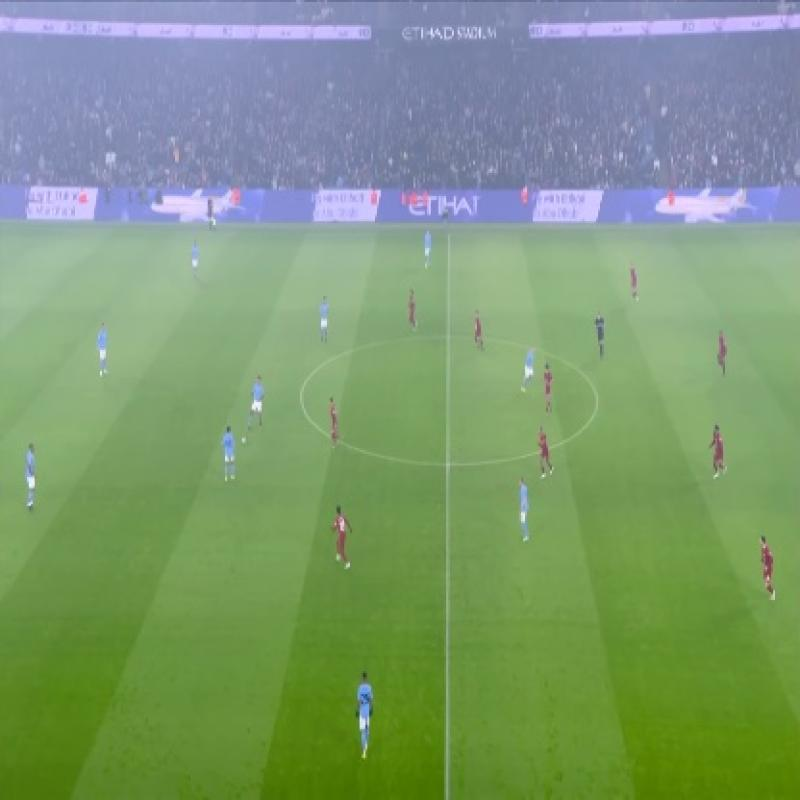13: (439, 219, 458, 246)
14: (436, 321, 458, 348)
15: (432, 446, 460, 478)
c: (290, 378, 314, 412), (587, 386, 611, 414)
